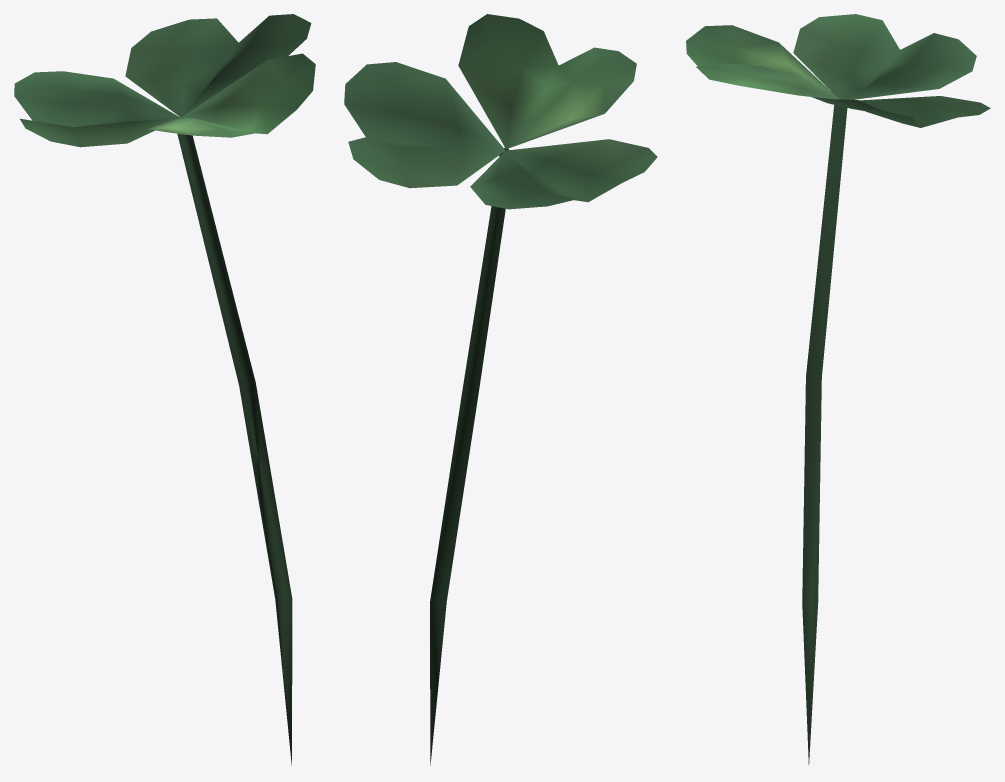
The model's file is plants-leafy-plants-clover_v1.glb.
3 renders of one model, left to right at view 1: azimuth 30°, elevation 25°; view 2: azimuth 150°, elevation 25°; view 3: azimuth 270°, elevation 25°, orthographic. The views are drawn at different scales.
Parts seen in each view (by area): view 1: Clover_v1; view 2: Clover_v1; view 3: Clover_v1.
Boxes of the visible parts, bbox=[...] form: Clover_v1: bbox=[14, 14, 315, 765]; Clover_v1: bbox=[344, 14, 657, 765]; Clover_v1: bbox=[686, 14, 990, 764].
Bounding box in the file's own units: 0.0608 × 0.15 × 0.0595.
